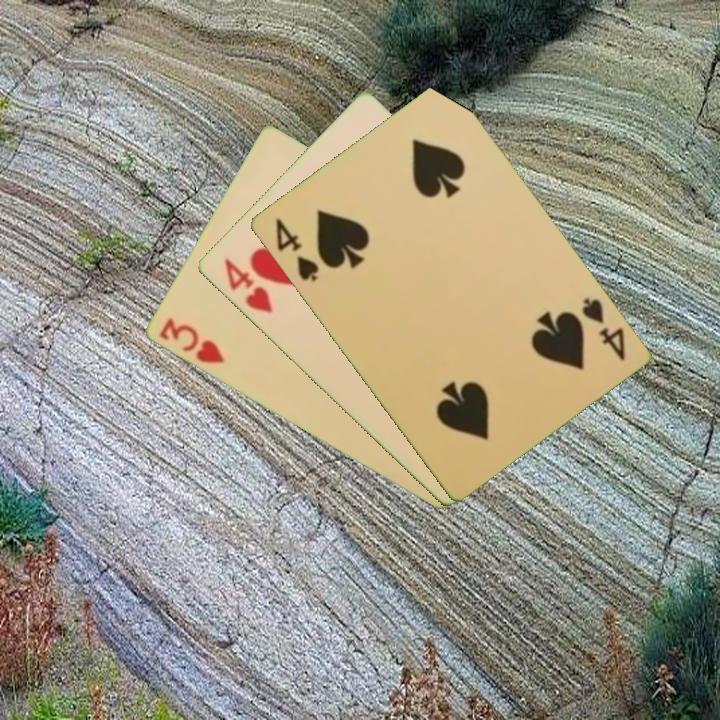3h: (155, 314, 227, 367)
4h: (220, 255, 276, 317)
4s: (577, 293, 628, 364), (271, 214, 321, 285)
